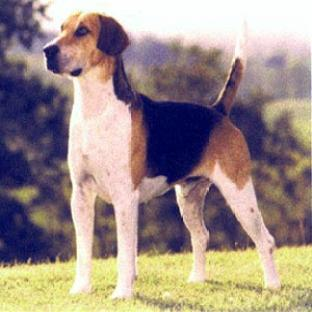Animal: (44, 12, 279, 297)
